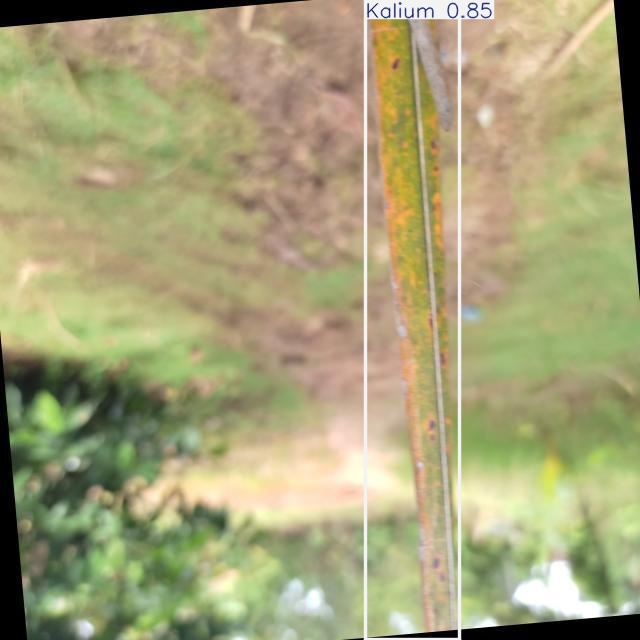Kalium: (365, 0, 460, 639)
